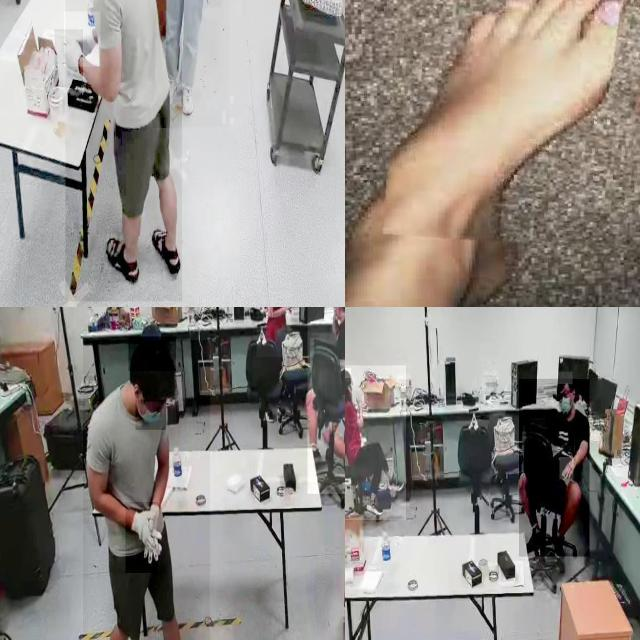Barefoots: (354, 0, 635, 297)
face_mask: (136, 400, 166, 430), (559, 387, 571, 415)
hand_glove: (126, 502, 158, 574), (64, 12, 100, 66), (55, 29, 83, 88), (202, 0, 221, 9)
hand_noglove: (560, 457, 574, 480), (266, 307, 273, 318), (356, 400, 362, 411)
head_nohelmet: (128, 336, 176, 372), (558, 372, 573, 385), (345, 368, 351, 378)
person: (83, 340, 210, 640), (65, 0, 182, 302), (519, 379, 590, 557), (152, 0, 229, 128), (345, 365, 406, 520), (307, 307, 345, 494), (256, 307, 291, 357)
shoes: (179, 68, 196, 121), (386, 468, 405, 493), (365, 492, 383, 518)
